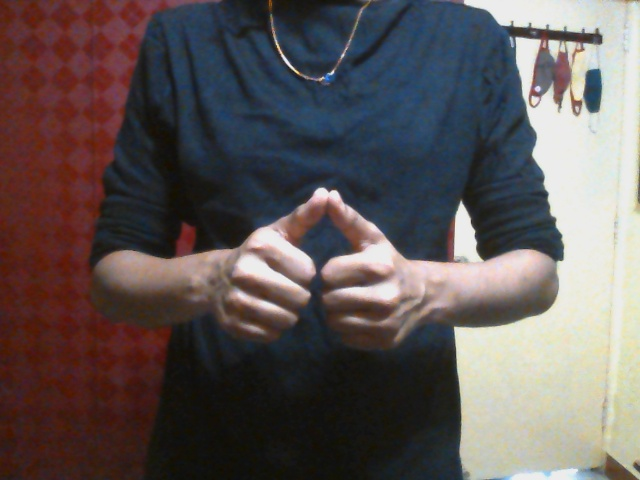A: (198, 186, 433, 352)
